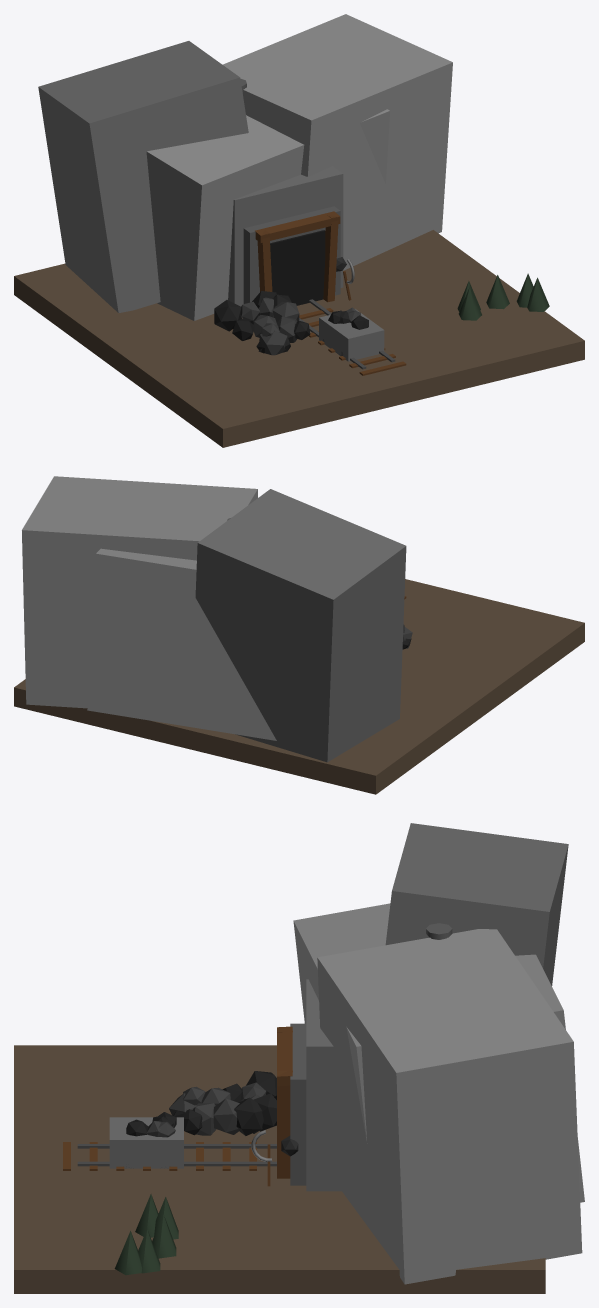
Rendered from coal_mine.glb.
3 renders of one model, top to bottom at view 1: azimuth 30°, elevation 25°; view 2: azimuth 150°, elevation 25°; view 3: azimuth 270°, elevation 25°, orthographic. The views are drawn at different scales.
Visible parts, largest first — view 1: Ground, MountainPeakRight, MountainPeakLeft, MountainBase, MountainFront, ShaftOpening, EntranceFrame, CartBody, BeamTop, BeamRight, BeamLeft, CoalPile9; view 2: MountainPeakLeft, Ground, MountainPeakRight, MountainBase; view 3: MountainPeakRight, Ground, MountainPeakLeft, MountainBase, MountainFront, CartBody, EntranceFrame, DarkBush (×3), BeamRight, BeamTop, CoalPile10, CoalPile5 (+1 smaller).
Boxes of the visible parts, box(x1,y1,x2,y2) form: Ground: box(14, 230, 584, 447); MountainPeakRight: box(223, 14, 452, 270); MountainPeakLeft: box(38, 41, 248, 312); MountainBase: box(146, 109, 389, 320); MountainFront: box(228, 166, 343, 306); ShaftOpening: box(270, 230, 325, 305); EntranceFrame: box(243, 206, 340, 303); CartBody: box(319, 309, 384, 361); BeamTop: box(255, 211, 340, 243); BeamRight: box(323, 214, 338, 302); BeamLeft: box(257, 230, 272, 291); CoalPile9: box(214, 300, 241, 331); MountainPeakLeft: box(195, 489, 406, 762); Ground: box(14, 579, 584, 794); MountainPeakRight: box(22, 476, 257, 708); MountainBase: box(87, 548, 276, 740); MountainPeakRight: box(317, 929, 582, 1284); Ground: box(14, 1045, 545, 1293); MountainPeakLeft: box(385, 823, 568, 985); MountainBase: box(293, 903, 584, 1202); MountainFront: box(306, 979, 341, 1191); CartBody: box(109, 1117, 183, 1168); EntranceFrame: box(290, 1023, 306, 1185); DarkBush (×3): box(114, 1214, 176, 1275); BeamRight: box(277, 1070, 292, 1178); BeamTop: box(277, 1026, 292, 1086); CoalPile10: box(234, 1097, 263, 1135); CoalPile5: box(213, 1098, 239, 1134).
Bounding box in the file's own units: 10.51 × 5.84 × 10.74.
